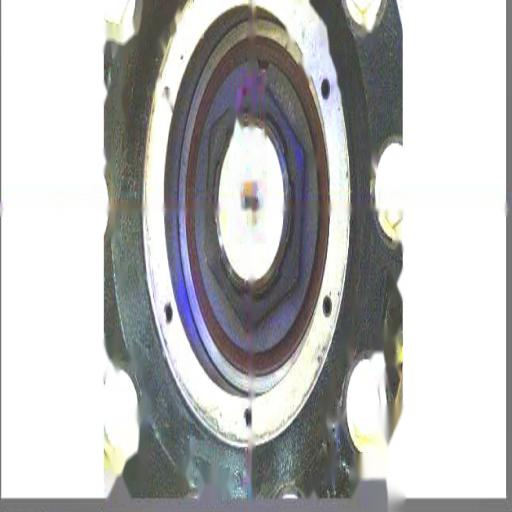center: (242, 177, 261, 221)
notch: (255, 52, 272, 78)
